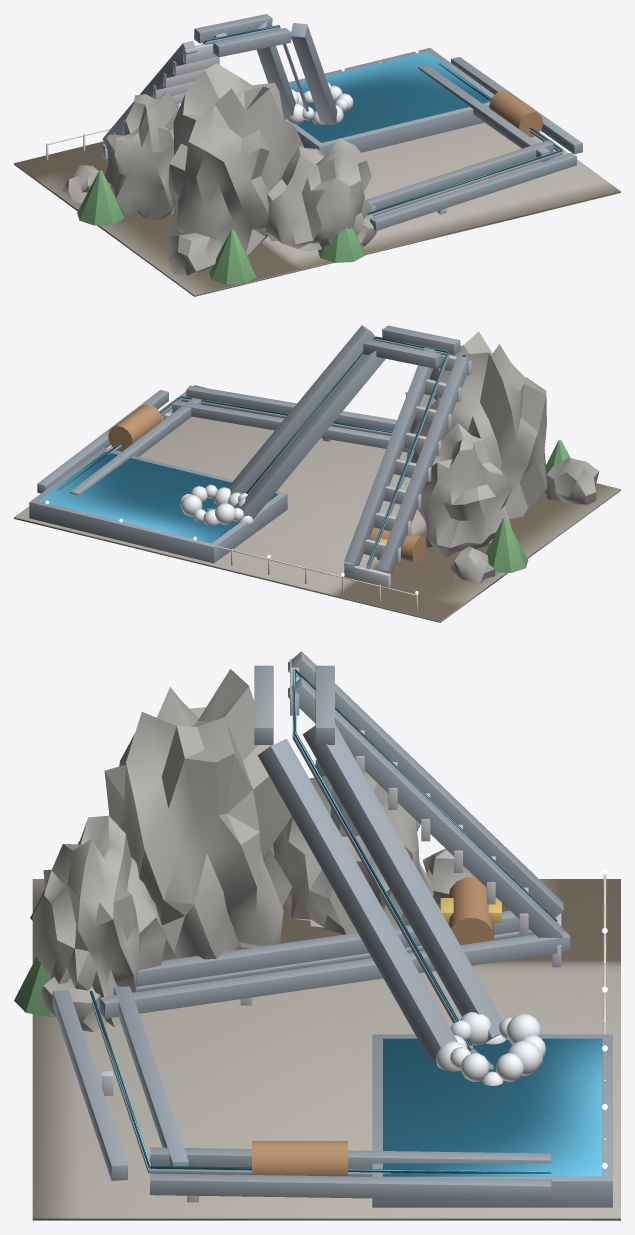
Rendered from th32_wildwasserbahn.glb.
3 renders of one model, top to bottom at view 1: azimuth 30°, elevation 25°; view 2: azimuth 150°, elevation 25°; view 3: azimuth 270°, elevation 25°, orthographic. The views are drawn at different scales.
Parts seen in each view (by area): view 1: Cube, Felskoerper, Felskoerper.002, Cube.028, Felskoerper.001, Cube.027, Cube.037, Cube.036, Cube.022, Felskoerper.003, Cube.031, Cone.002 (+14 smaller); view 2: Cube, Felskoerper, Cube.028, Felskoerper.001, Cube.027, Cube.023, Cube.022, Cube.003, Cube.004, Cube.036, Cube.037, Felskoerper.003 (+14 smaller); view 3: Cube, Felskoerper, Cube.028, Felskoerper.002, Cube.022, Cube.023, Cube.032, Cube.041, Felskoerper.001, Cube.004, Cube.027, Cube.003 (+15 smaller).
Part boxes in pixels (x1,y1,x2,y2): Cube: (14, 122, 620, 296); Felskoerper: (168, 63, 303, 255); Felskoerper.002: (266, 138, 372, 251); Cube.028: (289, 51, 491, 142); Felskoerper.001: (104, 90, 178, 219); Cube.027: (288, 48, 493, 155); Cube.037: (370, 153, 576, 230); Cube.036: (366, 140, 553, 210); Cube.022: (291, 23, 337, 125); Felskoerper.003: (165, 233, 221, 276); Cube.031: (418, 65, 550, 162); Cone.002: (77, 170, 124, 225); Cube: (14, 385, 620, 622); Felskoerper: (410, 331, 547, 518); Cube.028: (38, 452, 278, 543); Felskoerper.001: (418, 423, 512, 557); Cube.027: (29, 448, 287, 563); Cube.023: (238, 351, 385, 519); Cube.022: (228, 325, 375, 494); Cube.003: (377, 355, 470, 574); Cube.004: (344, 347, 436, 565); Cube.036: (172, 400, 409, 452); Cube.037: (186, 385, 396, 431); Felskoerper.003: (546, 457, 599, 504); Cube: (32, 879, 620, 1220); Felskoerper: (104, 669, 291, 960); Cube.028: (383, 1038, 602, 1176); Felskoerper.002: (32, 815, 166, 1027); Cube.022: (258, 739, 457, 1063); Cube.023: (302, 724, 502, 1042); Cube.032: (150, 1173, 551, 1201); Cube.041: (99, 930, 570, 1018); Felskoerper.001: (273, 760, 433, 934); Cube.004: (288, 677, 563, 938); Cube.027: (372, 1034, 612, 1207); Cube.003: (288, 651, 563, 917).
Bounding box in the file's own units: 30.69 × 11.96 × 22.69.
Materials: 11 (2 with a texture image).
